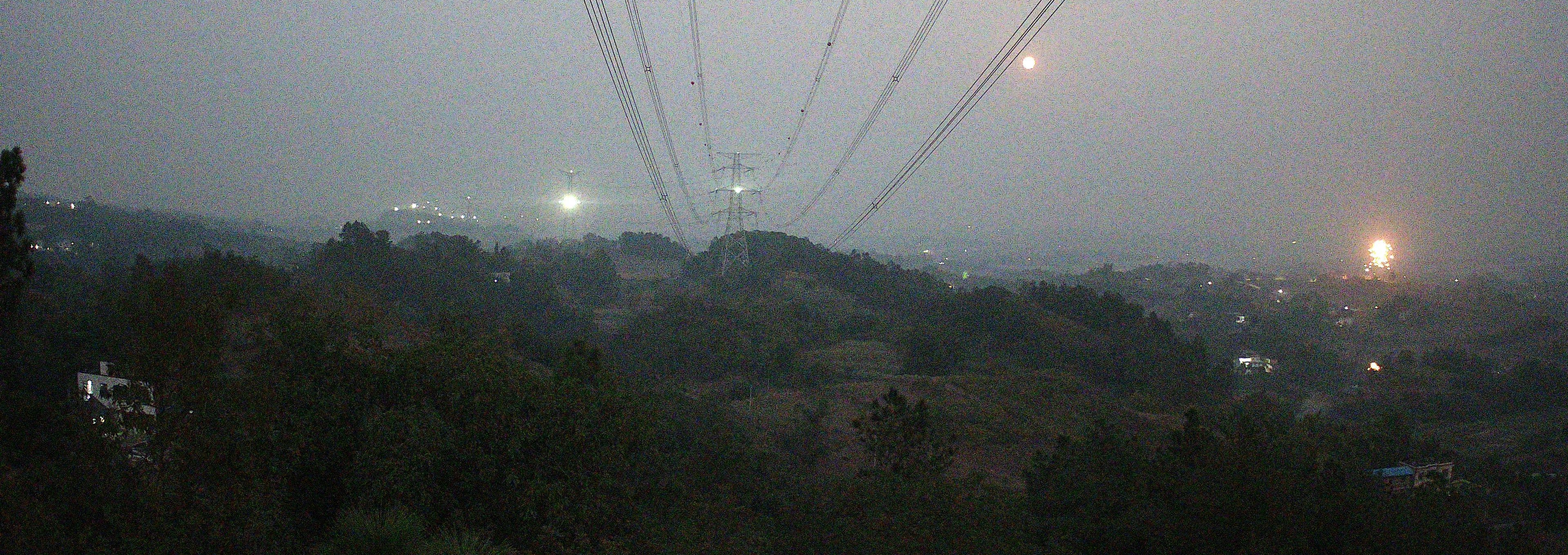山火: (1363, 239, 1394, 272), (1366, 361, 1382, 371)
